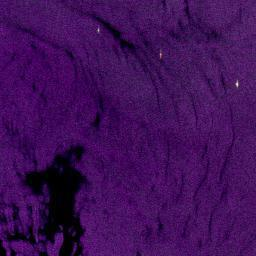Ship: (156, 48, 164, 59), (233, 79, 240, 88), (94, 26, 101, 34)
